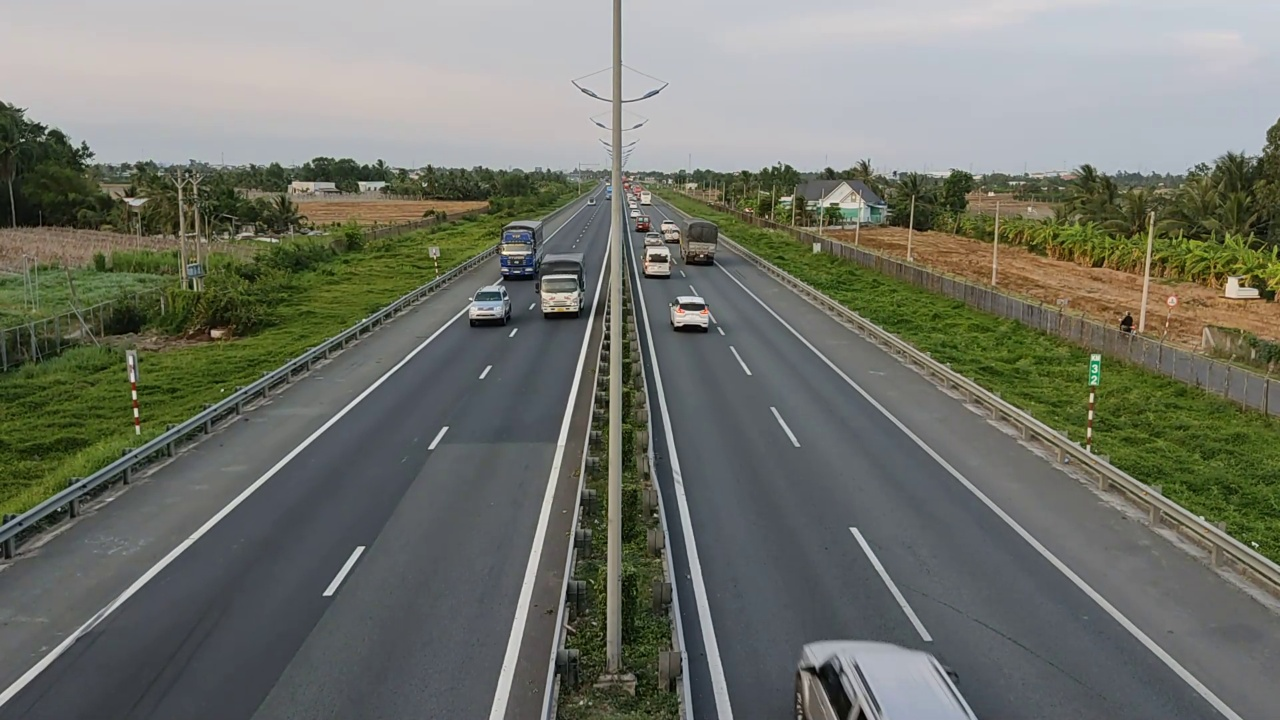car: (793, 639, 978, 719), (469, 284, 513, 326), (669, 293, 709, 332), (642, 243, 672, 278)
truck: (535, 258, 585, 318), (681, 218, 719, 264)
